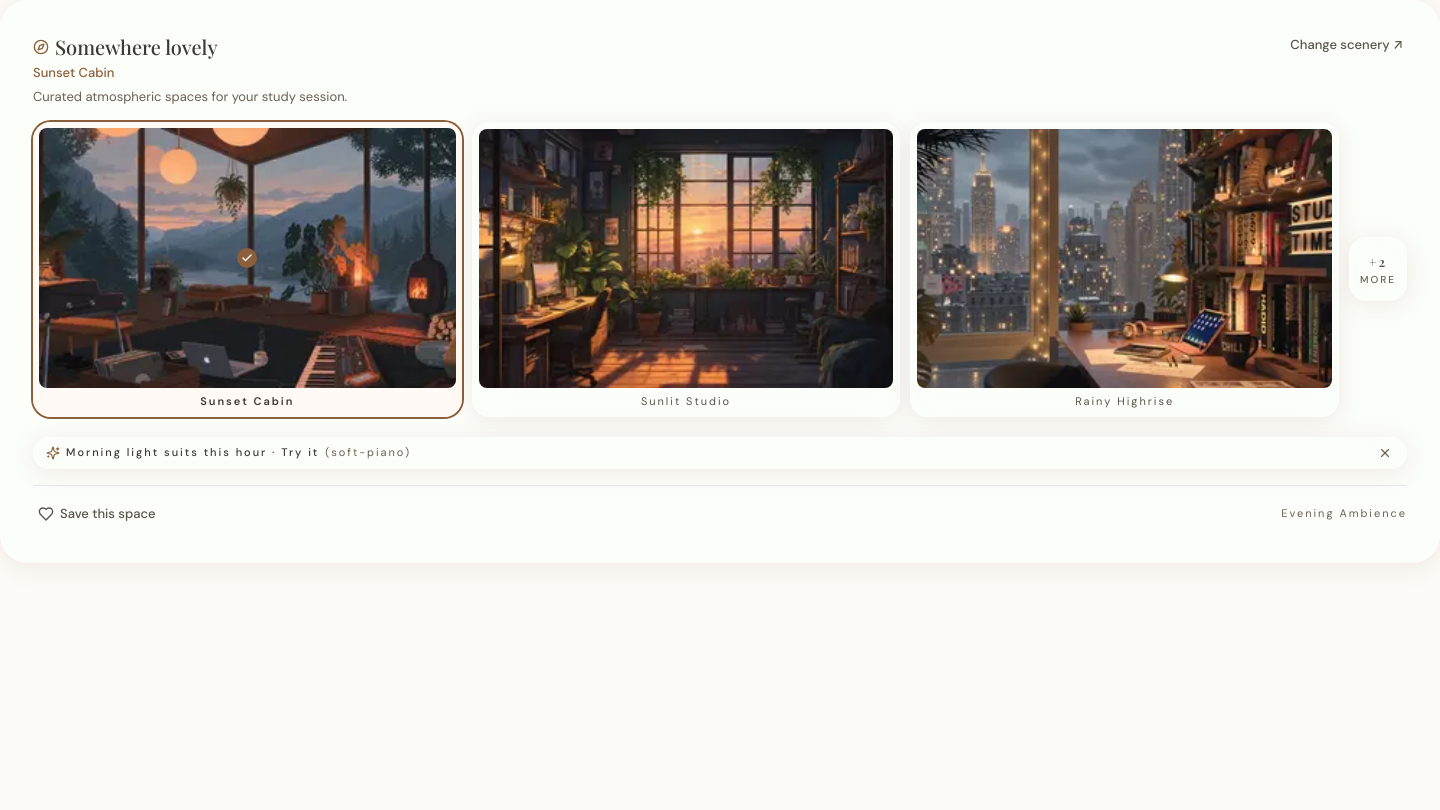
Test: SceneryCard › opens scenery gallery modal and lists all 5 scenes
Click the button "Change scenery ↗": (1347, 45) [1286,33,1407,56]
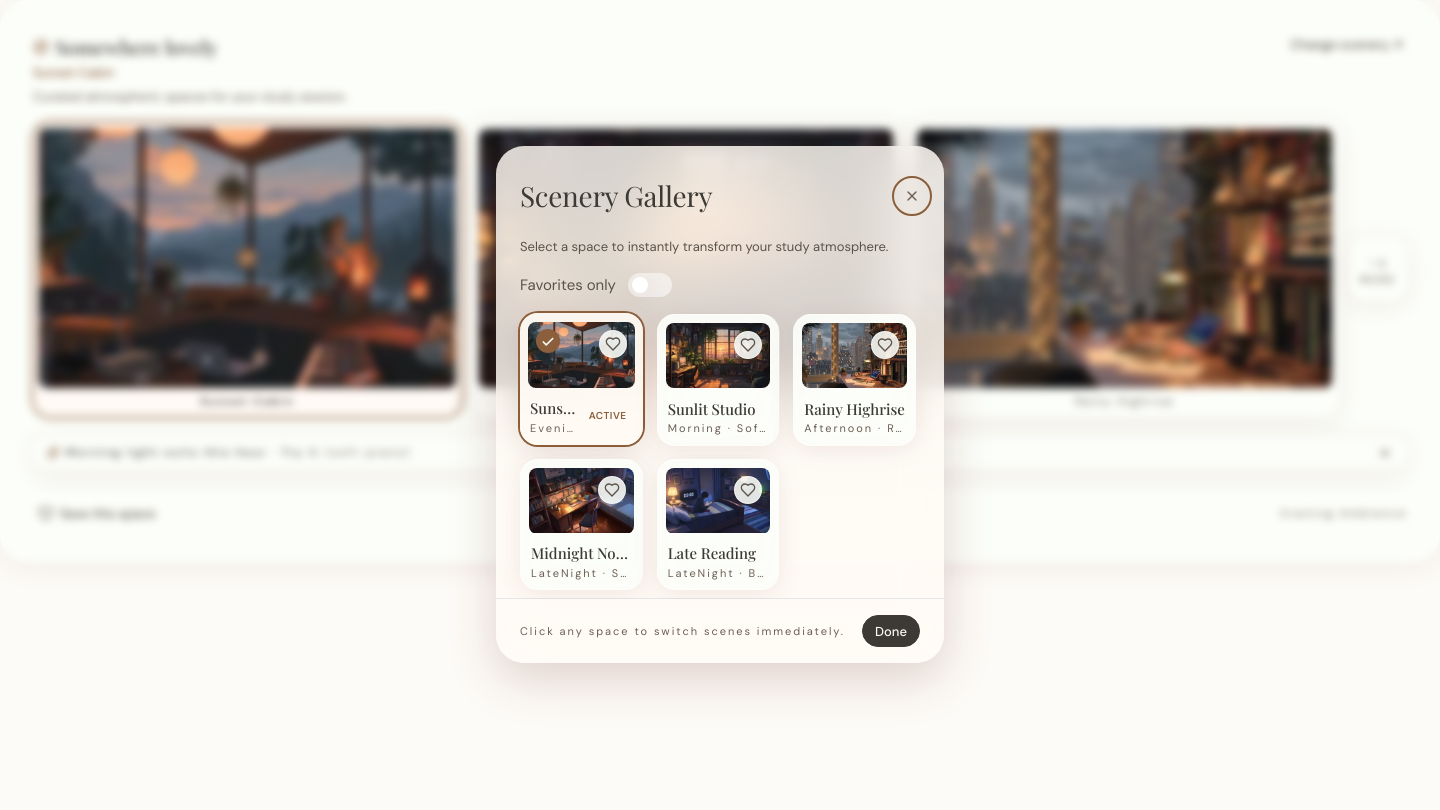
Result: the dialog is shown at [496,146,944,664]
Result: the heading "Scenery Gallery" is shown at [520,178,712,213]
Result: the heading "Sunset Cabin" is shown at [530,396,577,421]
